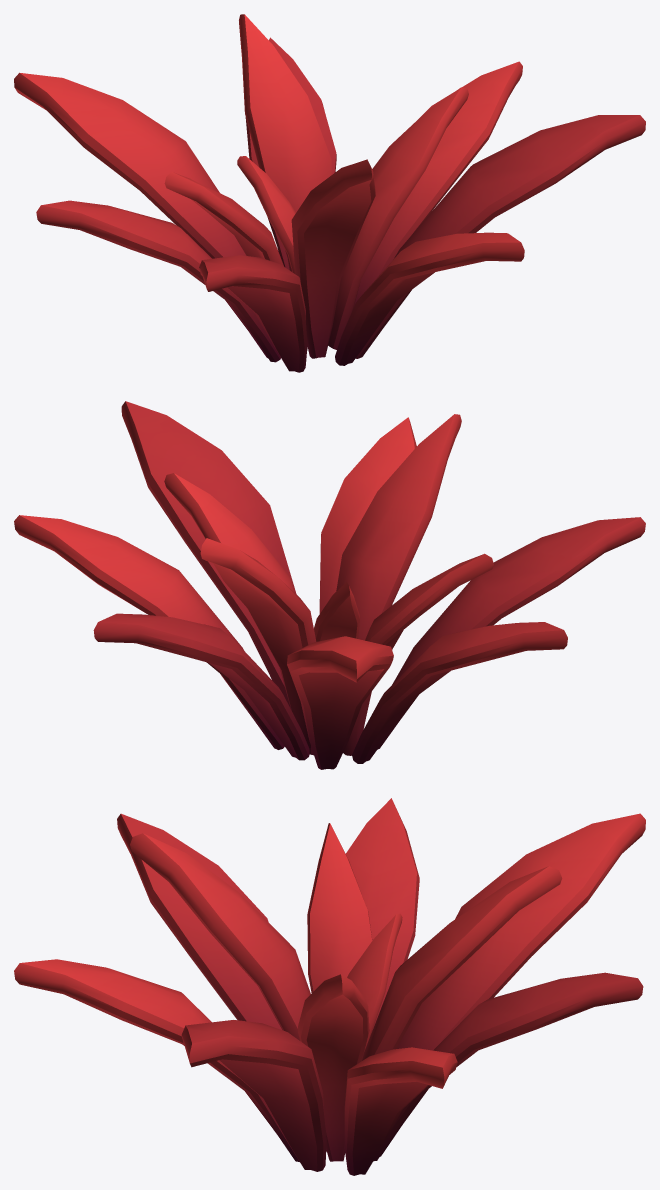
File: garden_plant_6.glb
The picture shows the model from 3 angles, top to bottom: view 1: azimuth 30°, elevation 25°; view 2: azimuth 150°, elevation 25°; view 3: azimuth 270°, elevation 25°; orthographic projection. The views are drawn at different scales.
Parts seen in each view (by area): view 1: garden_plant_6; view 2: garden_plant_6; view 3: garden_plant_6.
Boxes of the visible parts, x1,y1,x2,y2 form: garden_plant_6: [14, 14, 645, 372]; garden_plant_6: [14, 401, 645, 769]; garden_plant_6: [14, 798, 645, 1175].
Bounding box in the file's own units: 1.54 × 0.7571 × 1.44.
Materials: 1 (1 with a texture image).
